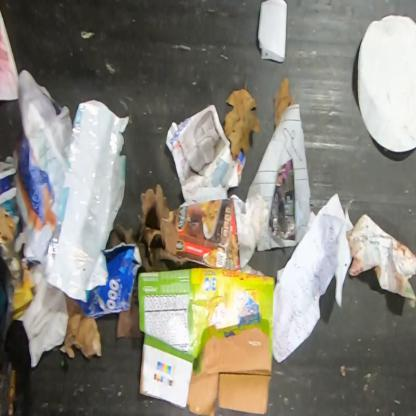cardboard: (138, 265, 274, 415), (140, 184, 268, 272), (60, 296, 102, 360)
soft_plastic: (42, 99, 130, 303)
